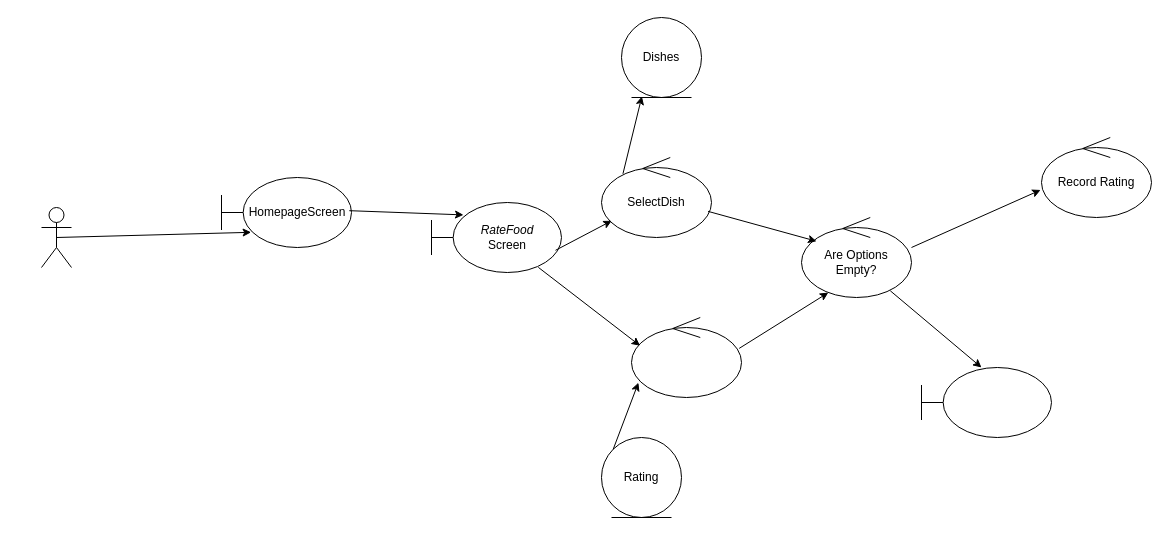
This 1169x535 diagram has some shape labels left out. Here are the shapes that lost their labels. From the top down, the centre of each, then its label:
the point at 56,237: rest. Customer
the point at 686,357: SelectRating
the point at 986,402: Please Select Page
